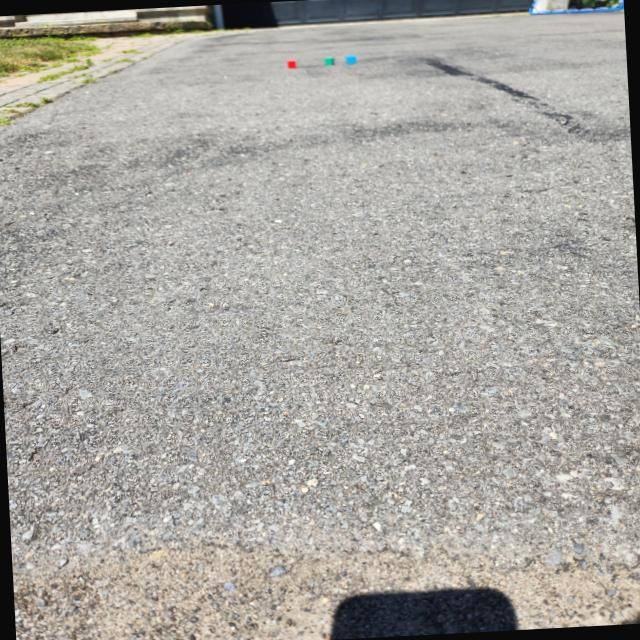bluecube: (347, 54, 358, 64)
green cube: (324, 56, 336, 67)
red cube: (287, 60, 297, 70)
